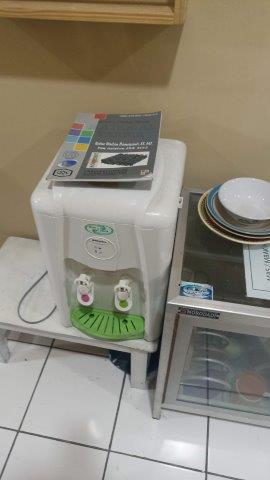kertas: (48, 108, 161, 184)
